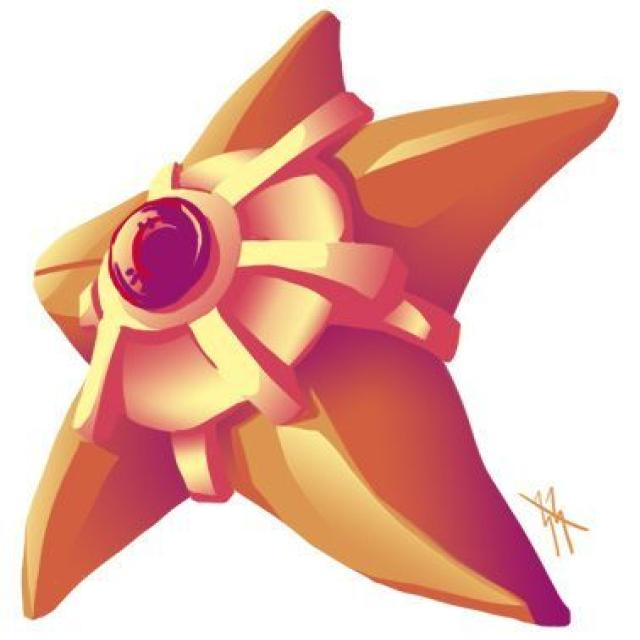Staryu: (18, 21, 619, 623)
